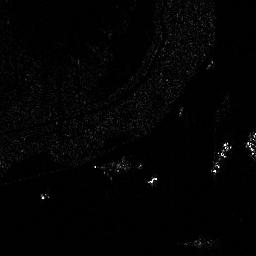ship: (212, 139, 230, 174)
